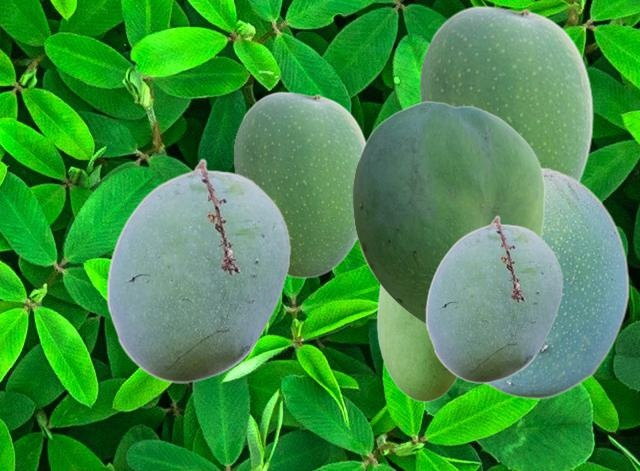green_mango: (352, 101, 544, 325), (106, 158, 290, 382), (481, 166, 629, 399), (419, 5, 593, 181), (233, 91, 365, 277), (425, 215, 562, 382), (376, 285, 457, 401)
